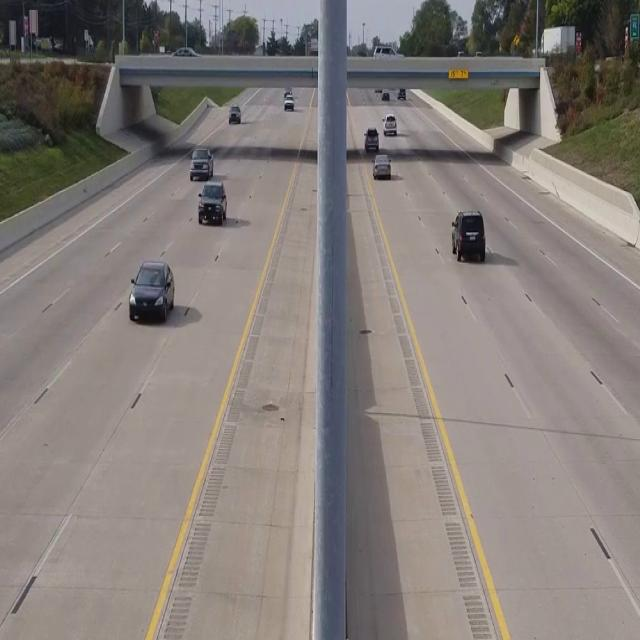car: (128, 260, 175, 322), (451, 211, 485, 262), (198, 180, 226, 224), (190, 146, 213, 180), (372, 151, 390, 179), (364, 128, 378, 151), (382, 114, 397, 135), (229, 105, 241, 124), (283, 90, 294, 110)
